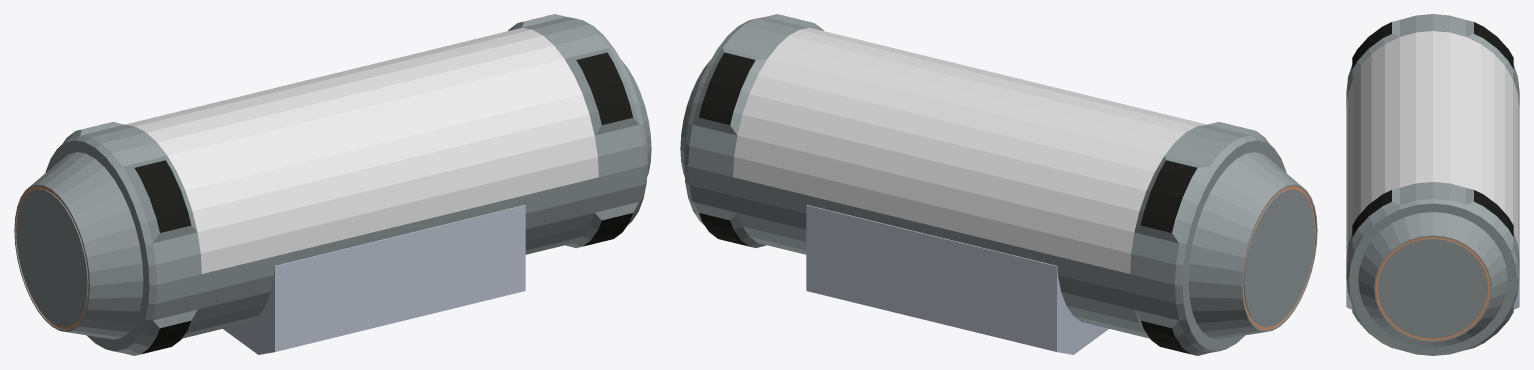
File: CryoPod.fbx
3 renders of one model, left to right at view 1: azimuth 30°, elevation 25°; view 2: azimuth 150°, elevation 25°; view 3: azimuth 270°, elevation 25°, orthographic. The views are drawn at different scales.
Parts seen in each view (by area): view 1: Lid, Base, Cube; view 2: Lid, Base, Cube; view 3: Base, Lid, Cube.
Boxes of the visible parts, box(x1,y1,x2,y2) form: Lid: box(125, 28, 598, 273); Base: box(14, 14, 651, 355); Cube: box(223, 205, 525, 354); Lid: box(733, 28, 1206, 273); Base: box(680, 14, 1317, 355); Cube: box(806, 205, 1108, 354); Base: box(1346, 14, 1519, 355); Lid: box(1346, 31, 1519, 258); Cube: box(1346, 279, 1519, 309).
Size of the model in its own units: 583 by 210 by 200.
